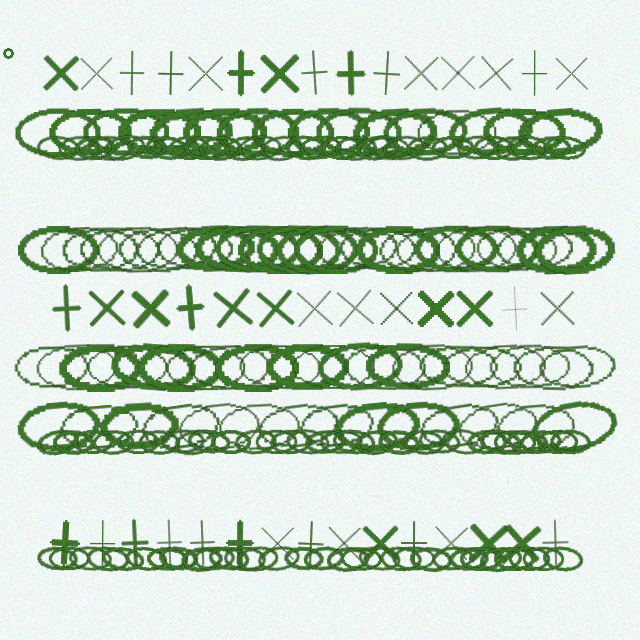chain: (527, 394, 622, 458), (413, 395, 504, 457), (134, 395, 225, 456), (452, 395, 542, 456), (252, 396, 343, 456), (331, 397, 422, 455), (293, 396, 381, 455), (174, 397, 263, 455), (446, 103, 536, 160), (14, 397, 104, 454), (515, 104, 604, 160), (108, 339, 197, 395), (54, 398, 142, 454), (492, 398, 580, 454), (131, 221, 220, 276), (312, 221, 401, 276), (315, 339, 404, 394), (374, 398, 463, 453), (534, 339, 621, 395), (146, 104, 234, 159), (381, 105, 470, 159), (461, 340, 550, 394), (215, 399, 304, 453), (36, 221, 123, 276), (350, 105, 438, 159), (388, 340, 477, 393), (392, 222, 480, 275), (33, 340, 121, 393), (185, 340, 273, 393), (340, 340, 428, 393), (532, 222, 618, 276), (432, 222, 519, 275), (97, 399, 182, 453), (94, 223, 182, 275), (255, 223, 343, 275), (492, 222, 578, 275), (47, 106, 134, 158), (481, 106, 568, 158), (114, 223, 201, 275), (193, 223, 280, 275), (274, 223, 361, 275), (236, 341, 323, 393), (509, 341, 596, 393), (173, 222, 258, 275), (315, 106, 403, 157), (374, 223, 460, 275), (473, 223, 559, 275), (514, 223, 599, 275), (14, 107, 102, 157), (181, 106, 267, 157), (215, 106, 301, 157), (414, 106, 500, 157), (76, 223, 162, 274), (364, 341, 450, 392), (486, 341, 572, 392), (10, 341, 94, 393), (82, 107, 169, 157), (214, 224, 301, 274), (236, 224, 323, 274), (454, 224, 541, 274), (289, 342, 376, 392), (58, 223, 143, 274), (415, 341, 500, 392), (250, 107, 336, 157), (354, 224, 440, 274), (136, 342, 222, 392), (213, 342, 299, 392), (286, 106, 370, 157), (153, 223, 237, 274), (336, 223, 420, 274), (116, 107, 201, 157), (16, 224, 101, 274), (293, 224, 378, 274), (413, 224, 498, 274), (57, 342, 142, 392), (84, 342, 169, 392), (264, 342, 349, 392), (439, 342, 524, 392), (163, 342, 247, 392), (101, 131, 147, 164), (34, 426, 81, 458), (172, 426, 218, 458), (440, 426, 487, 457), (354, 132, 400, 163), (477, 426, 523, 457), (256, 543, 302, 574), (259, 133, 305, 163), (144, 133, 189, 163), (354, 427, 399, 457), (100, 544, 145, 574), (124, 544, 169, 574), (478, 544, 523, 574), (237, 133, 283, 162), (285, 427, 331, 456), (223, 133, 267, 163), (186, 427, 231, 456), (331, 427, 376, 456), (417, 427, 462, 456), (85, 544, 130, 573), (235, 544, 280, 573), (357, 544, 402, 573), (284, 133, 328, 162), (207, 544, 251, 573), (302, 544, 346, 573), (541, 544, 585, 573), (366, 134, 411, 162), (543, 134, 588, 162), (325, 545, 370, 573), (408, 545, 453, 573), (157, 544, 200, 573), (36, 134, 80, 162), (382, 134, 426, 162), (505, 428, 549, 456), (519, 428, 563, 456), (304, 428, 347, 456), (377, 428, 420, 456), (402, 428, 445, 456), (180, 545, 223, 573), (299, 134, 343, 161), (456, 134, 500, 161), (506, 134, 550, 161), (161, 428, 205, 455), (68, 545, 112, 572), (192, 545, 236, 572), (223, 545, 267, 572), (379, 545, 423, 572), (74, 134, 117, 161), (234, 428, 277, 455), (269, 428, 312, 455), (466, 428, 509, 455), (549, 428, 592, 455), (36, 545, 79, 572), (431, 545, 474, 572), (88, 135, 132, 161), (198, 135, 242, 161), (334, 135, 378, 161), (319, 429, 363, 455), (126, 134, 168, 161), (283, 545, 325, 572), (58, 135, 101, 161), (406, 135, 449, 161), (92, 429, 135, 455), (138, 429, 181, 455), (493, 429, 536, 455), (340, 546, 383, 572), (492, 135, 534, 161), (52, 429, 94, 455), (146, 546, 188, 572), (448, 546, 490, 572), (184, 135, 227, 160), (431, 135, 474, 160), (255, 429, 298, 454), (536, 429, 579, 454), (48, 546, 91, 571), (392, 546, 435, 571), (459, 546, 502, 571), (508, 546, 551, 571), (531, 135, 572, 161), (168, 135, 210, 160), (321, 135, 363, 160), (473, 135, 515, 160), (72, 429, 114, 454), (117, 429, 159, 454), (210, 429, 252, 454), (493, 546, 535, 571), (522, 546, 564, 571)
noise: (1, 46, 15, 60)
single: (205, 280, 260, 335), (248, 281, 302, 335), (288, 46, 341, 99), (469, 46, 522, 99), (164, 281, 217, 334), (328, 281, 381, 334), (495, 516, 548, 569), (360, 47, 412, 99), (40, 282, 92, 334), (124, 282, 176, 334), (288, 282, 340, 334), (488, 282, 540, 334), (39, 517, 91, 569), (109, 517, 161, 569), (284, 517, 336, 569), (462, 517, 514, 569), (35, 47, 86, 98), (395, 47, 446, 98), (432, 47, 483, 98), (81, 282, 132, 333), (370, 282, 421, 333), (531, 282, 582, 333), (144, 517, 195, 568), (177, 517, 228, 568), (318, 517, 369, 568), (425, 517, 476, 568), (530, 517, 581, 568), (71, 48, 121, 98), (107, 48, 157, 98), (145, 48, 195, 98), (180, 48, 230, 98), (216, 48, 266, 98), (254, 48, 304, 98), (325, 48, 375, 98), (509, 48, 559, 98), (546, 48, 596, 98), (410, 283, 460, 333), (449, 283, 499, 333), (77, 518, 127, 568), (215, 518, 265, 568), (252, 518, 302, 568), (355, 518, 405, 568), (389, 518, 439, 568)
